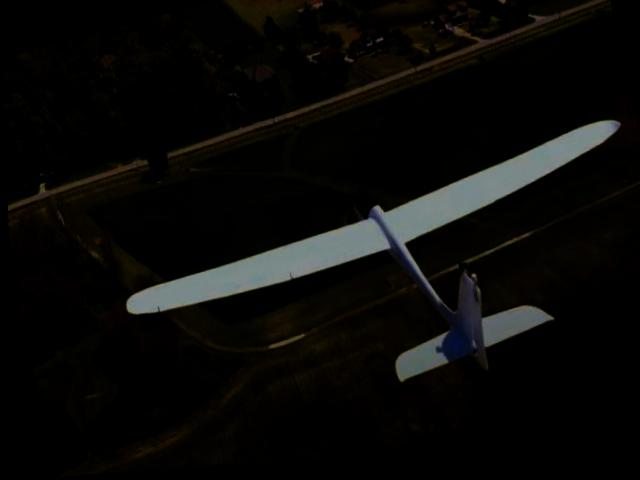iha: (106, 124, 640, 455)
